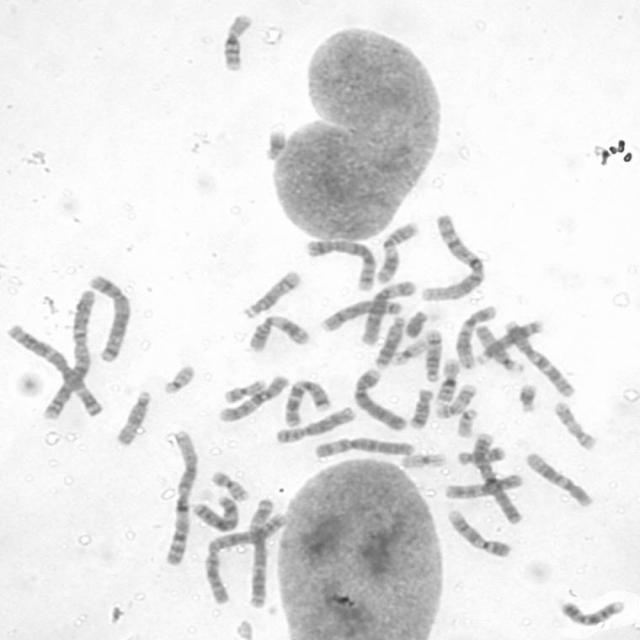A1: (420, 213, 488, 302), (162, 430, 200, 566)
A2: (203, 511, 288, 606), (41, 289, 96, 420)
A3: (4, 323, 106, 417), (246, 496, 276, 610)
B4: (471, 432, 523, 526), (351, 367, 409, 433)
B5: (87, 275, 134, 364), (303, 237, 377, 293)
C10: (216, 374, 292, 424), (442, 472, 523, 502)
C11: (375, 220, 419, 285), (248, 315, 310, 352)
C12: (526, 450, 594, 507), (454, 303, 496, 370)
C6: (359, 280, 415, 346), (314, 437, 416, 460)
C7: (503, 319, 578, 399), (282, 379, 332, 428)
C8: (272, 404, 358, 444), (318, 299, 404, 334)
C9: (445, 509, 512, 559), (560, 597, 627, 628)
D13: (476, 320, 545, 367), (372, 315, 408, 370)
D14: (241, 269, 303, 321), (422, 328, 444, 382)
D15: (474, 323, 526, 372), (114, 391, 152, 446)
E16: (219, 13, 253, 74), (434, 356, 461, 406)
E17: (553, 400, 598, 450), (434, 383, 478, 420)
E18: (408, 387, 434, 431), (455, 446, 507, 466)
F19: (389, 337, 429, 367), (400, 453, 449, 470)
F20: (209, 469, 251, 502), (223, 379, 268, 405)
G21: (262, 129, 286, 162), (515, 384, 538, 414)
G22: (162, 364, 198, 394), (456, 409, 478, 439)
X: (191, 493, 239, 532)
Y: (403, 309, 428, 340)
